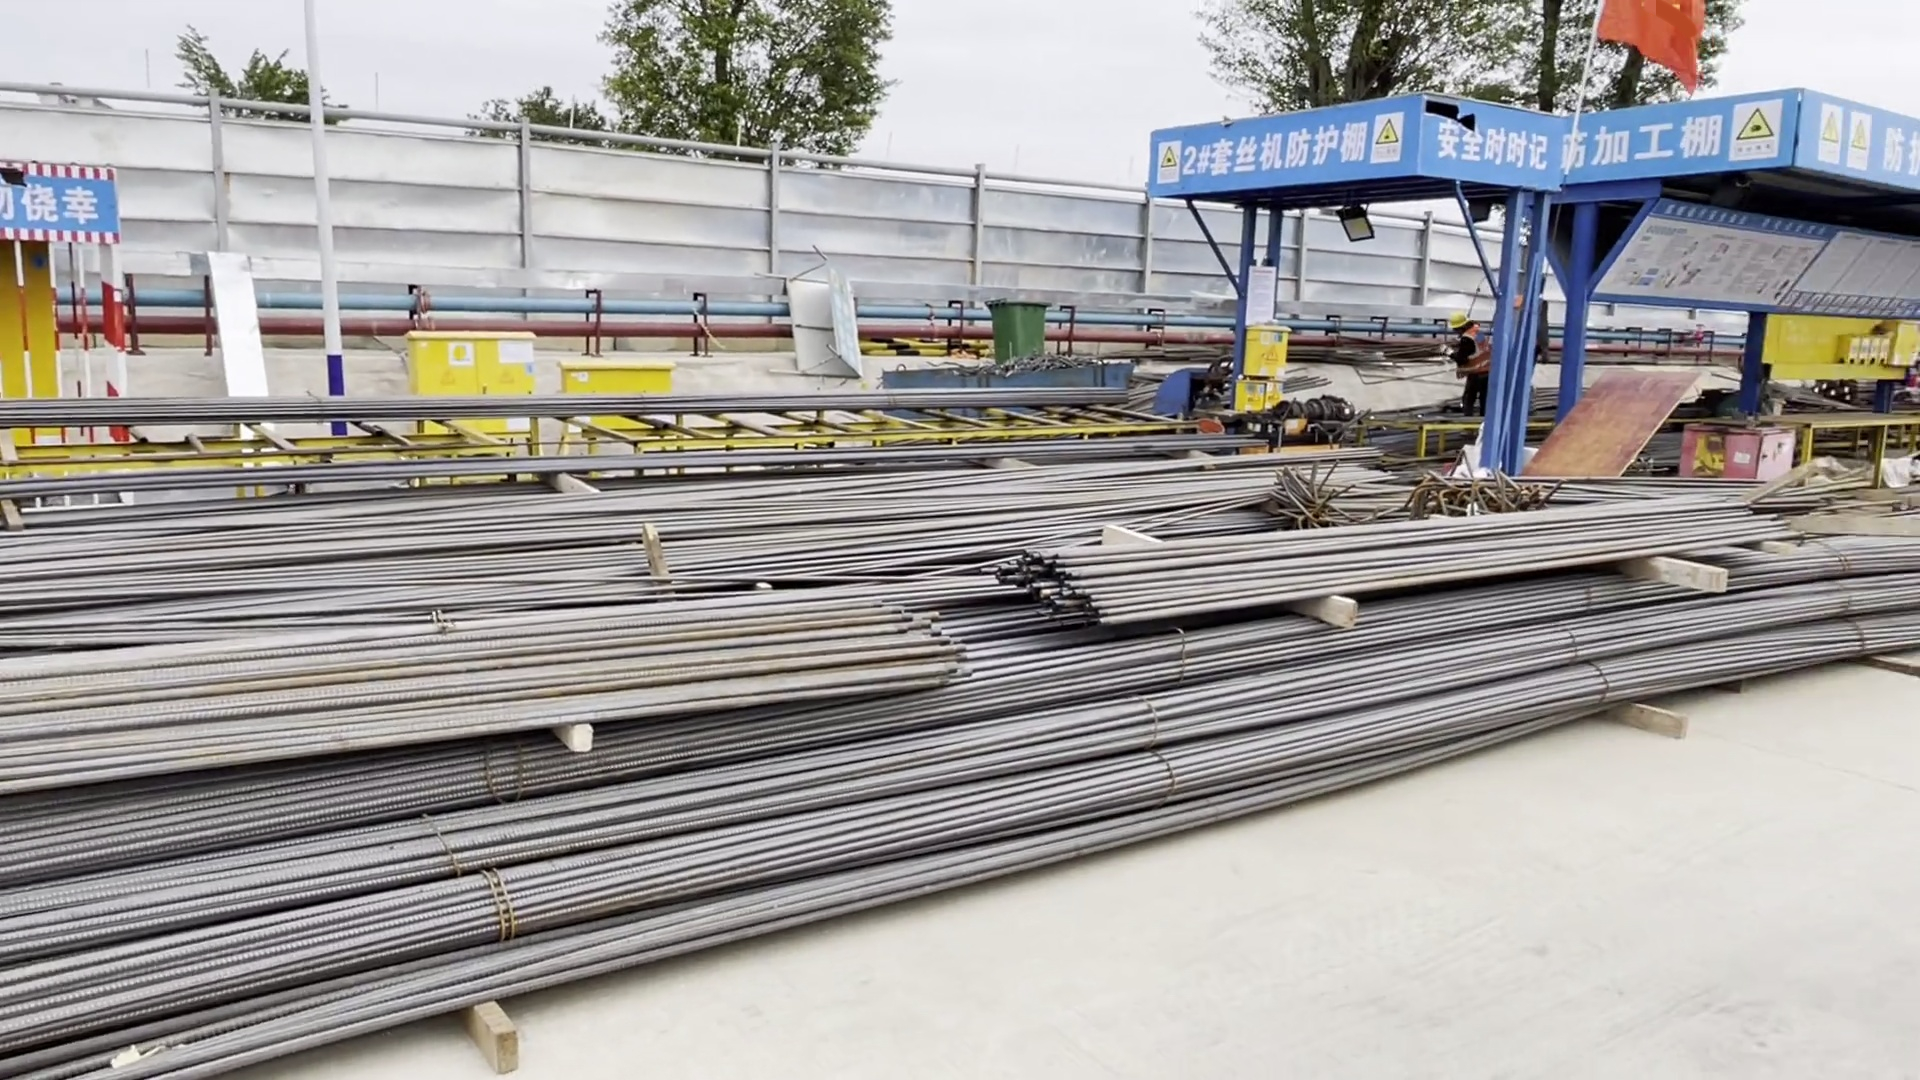ebox: (408, 329, 532, 436), (559, 356, 674, 445), (1233, 325, 1292, 419), (1835, 323, 1920, 378)
fence: (115, 101, 1135, 320)
helmet: (1450, 312, 1471, 332)
hopper: (877, 353, 1127, 403)
person: (1448, 306, 1497, 419)
rebar: (1, 460, 1920, 1071)
slogan: (1157, 112, 1402, 188), (1563, 113, 1791, 183), (1434, 110, 1548, 179), (1803, 125, 1920, 178)
vest: (1454, 332, 1493, 377)
